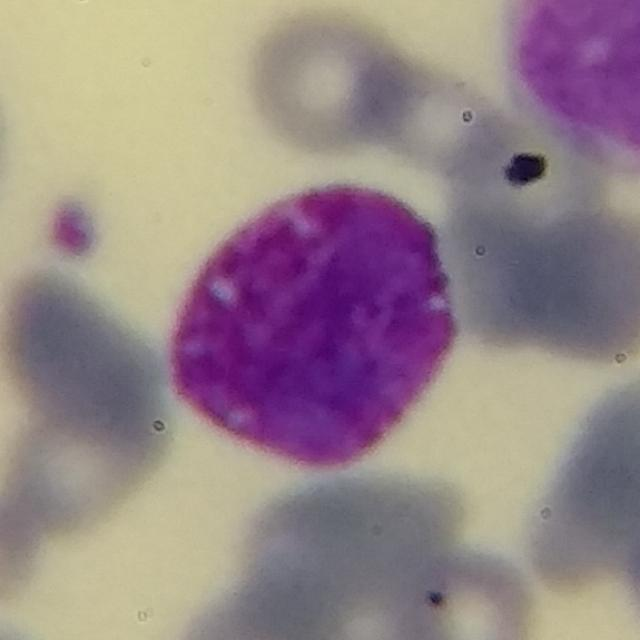Basophil: (150, 157, 481, 492)
Monocyte: (489, 0, 640, 179)
Platelets: (38, 193, 107, 266), (501, 148, 553, 191)
RBC: (229, 464, 464, 638), (0, 261, 181, 471), (0, 360, 179, 558), (238, 0, 423, 164), (348, 41, 514, 179), (432, 188, 571, 350), (517, 198, 640, 366), (532, 408, 638, 594), (378, 538, 544, 640), (169, 570, 352, 640), (574, 367, 640, 551), (0, 489, 52, 614), (0, 51, 19, 253)
